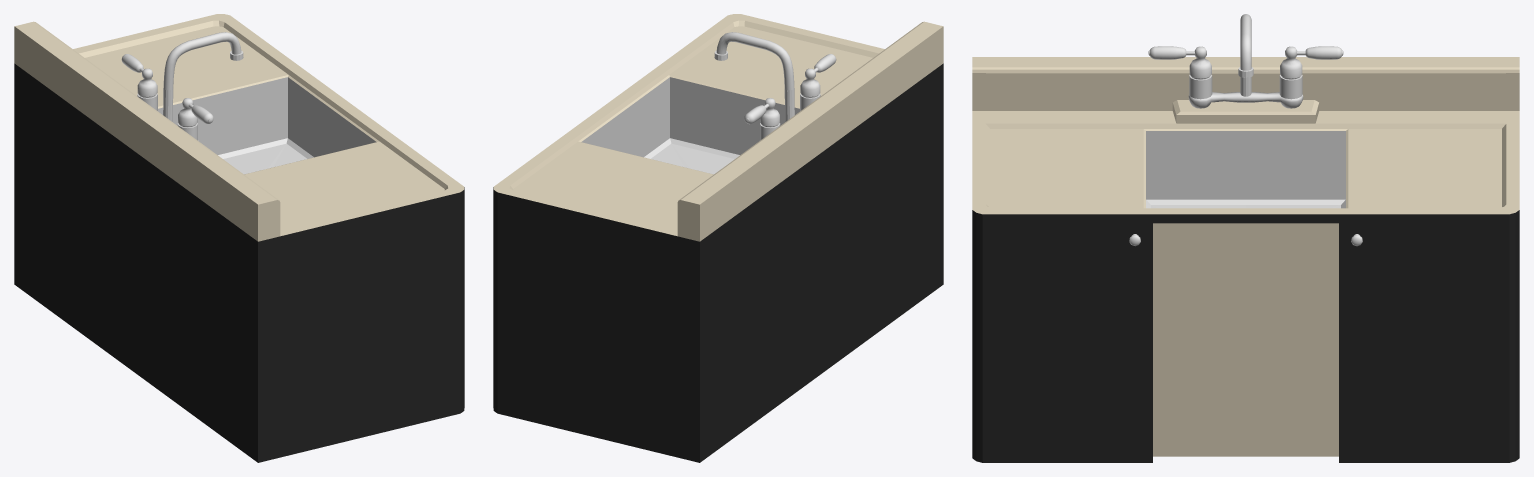
File: KitchenSink.fbx
The picture shows the model from 3 angles, left to right: view 1: azimuth 30°, elevation 25°; view 2: azimuth 150°, elevation 25°; view 3: azimuth 270°, elevation 25°; orthographic projection. The views are drawn at different scales.
Parts seen in each view (by area): view 1: polySurface22; view 2: polySurface22; view 3: polySurface22.
Part boxes in pixels (bbox=[...]): polySurface22: bbox=[14, 14, 464, 462]; polySurface22: bbox=[493, 14, 943, 462]; polySurface22: bbox=[972, 14, 1519, 462].
Bounding box in the file's own units: 84.39 × 118 × 162.
